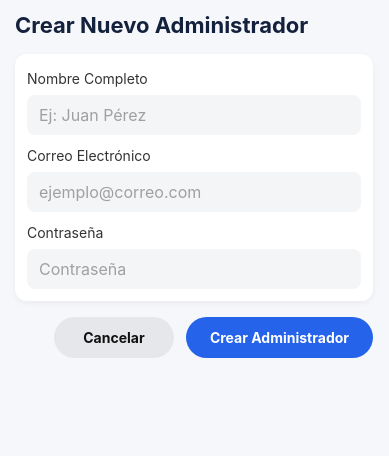
Scenario: AdminCreateScreen › muestra errores de validación cuando se envía vacío
This screenshot has width=389, height=456.
Note: En RN Web puede haber múltiples nodos con el mismo texto
Click the text "Crear Administrador" at (279, 338), box left=210, top=329, right=349, bottom=346
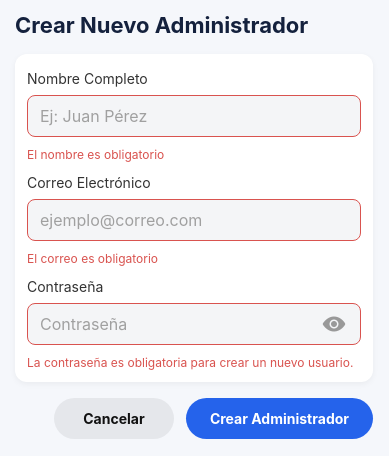
Result: the text "El nombre es obligatorio" is shown at left=27, top=147, right=164, bottom=162
Result: the text "El correo es obligatorio" is shown at left=27, top=251, right=158, bottom=266
Result: the text "La contraseña es obligatoria para crear un nuevo usuario." is shown at left=27, top=355, right=361, bottom=370
